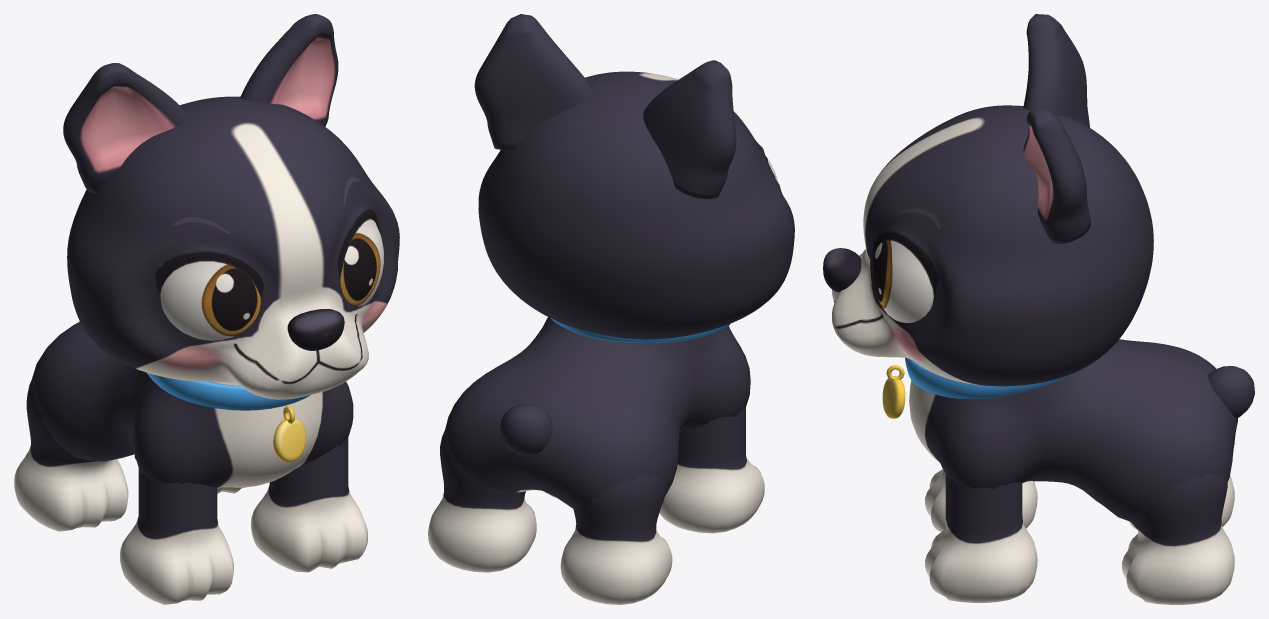
Rendered from shadow-toy.glb.
The picture shows the model from 3 angles, left to right: view 1: azimuth 30°, elevation 25°; view 2: azimuth 150°, elevation 25°; view 3: azimuth 270°, elevation 25°; orthographic projection. The views are drawn at different scales.
Visible parts, largest first — view 1: Shadow_head, Shadow_body, Shadow_ear_R, Shadow_ear_L, Shadow_eye_R, Shadow_eye_L; view 2: Shadow_body, Shadow_head, Shadow_ear_L, Shadow_ear_R, Shadow_tail; view 3: Shadow_body, Shadow_head, Shadow_ear_L, Shadow_ear_R, Shadow_eye_L, Shadow_tail.
Part boxes in pixels (<box>): Shadow_head: <box>67,96,399,399</box>; Shadow_body: <box>14,321,368,604</box>; Shadow_ear_R: <box>63,63,188,193</box>; Shadow_ear_L: <box>240,14,338,126</box>; Shadow_eye_R: <box>160,259,260,341</box>; Shadow_eye_L: <box>340,217,383,306</box>; Shadow_body: <box>428,317,764,604</box>; Shadow_head: <box>478,71,794,339</box>; Shadow_ear_L: <box>474,14,593,149</box>; Shadow_ear_R: <box>643,60,736,199</box>; Shadow_tail: <box>500,404,552,456</box>; Shadow_body: <box>882,339,1237,604</box>; Shadow_head: <box>823,105,1153,386</box>; Shadow_ear_L: <box>1023,108,1090,243</box>; Shadow_ear_R: <box>1023,14,1089,127</box>; Shadow_eye_L: <box>872,238,933,323</box>; Shadow_tail: <box>1208,366,1254,418</box>.
Size of the model in its own units: 0.4272 by 0.7009 by 0.5525.
Materials: 1 (1 with a texture image).
